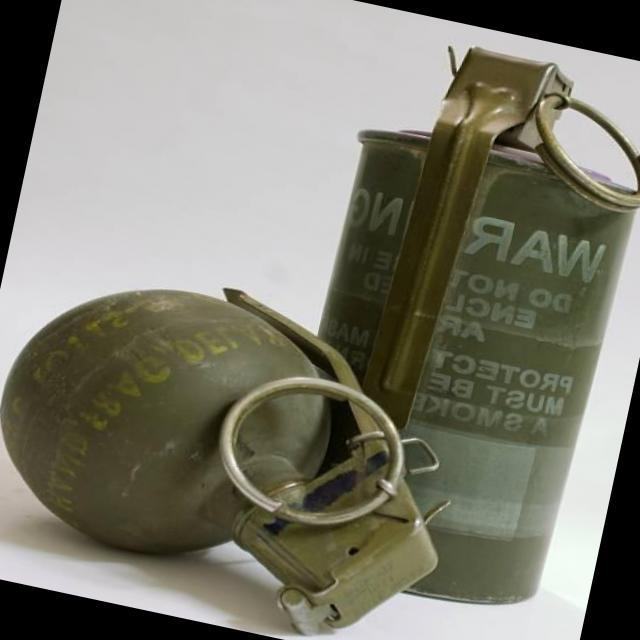grenade: (0, 234, 487, 640), (319, 17, 640, 349)
